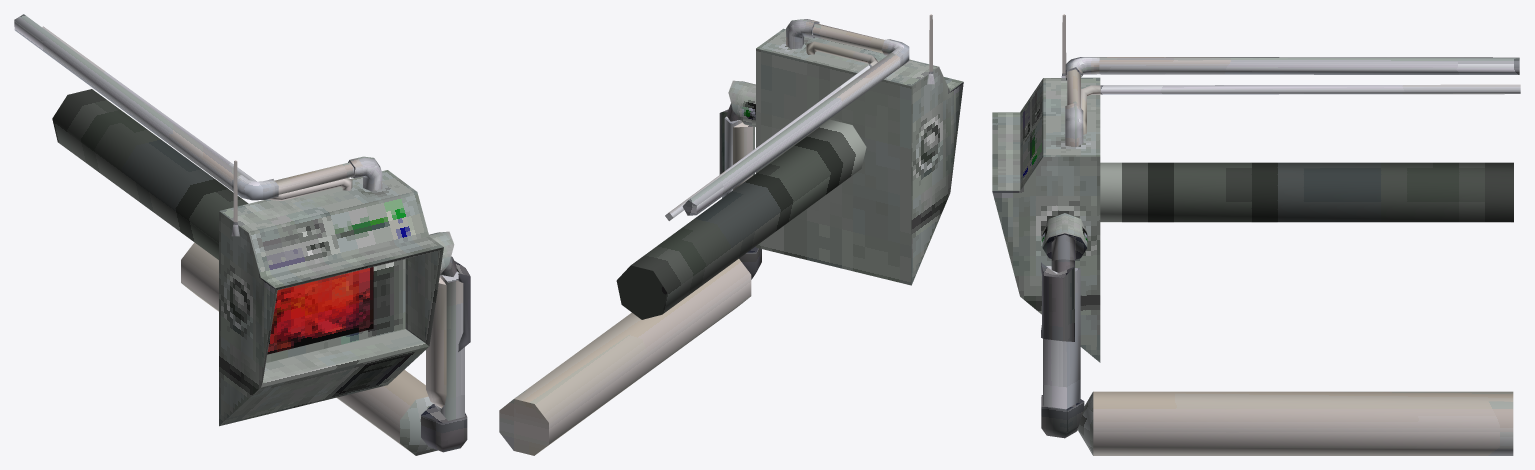
File: frn_all_data_terminal_wall_s4_l0.fbx
3 renders of one model, left to right at view 1: azimuth 30°, elevation 25°; view 2: azimuth 150°, elevation 25°; view 3: azimuth 270°, elevation 25°, orthographic. The views are drawn at different scales.
Visible parts, largest first — view 1: mesh_node; view 2: mesh_node; view 3: mesh_node.
Part boxes in pixels (box(x1,y1,x2,y2)): mesh_node: box(14, 14, 470, 455); mesh_node: box(499, 14, 963, 455); mesh_node: box(992, 14, 1520, 455).
Size of the model in its own units: 0.6319 by 0.8999 by 1.27.
